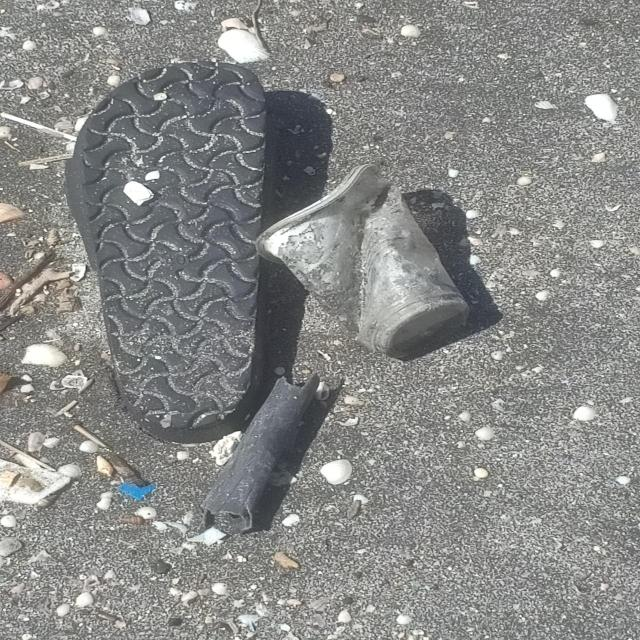litter: (63, 63, 266, 443), (256, 160, 470, 359)
